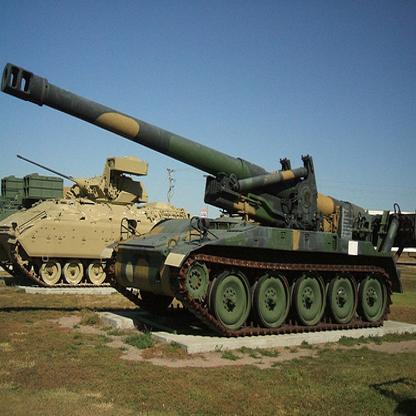Tank: (102, 102, 405, 349), (4, 141, 192, 314)
